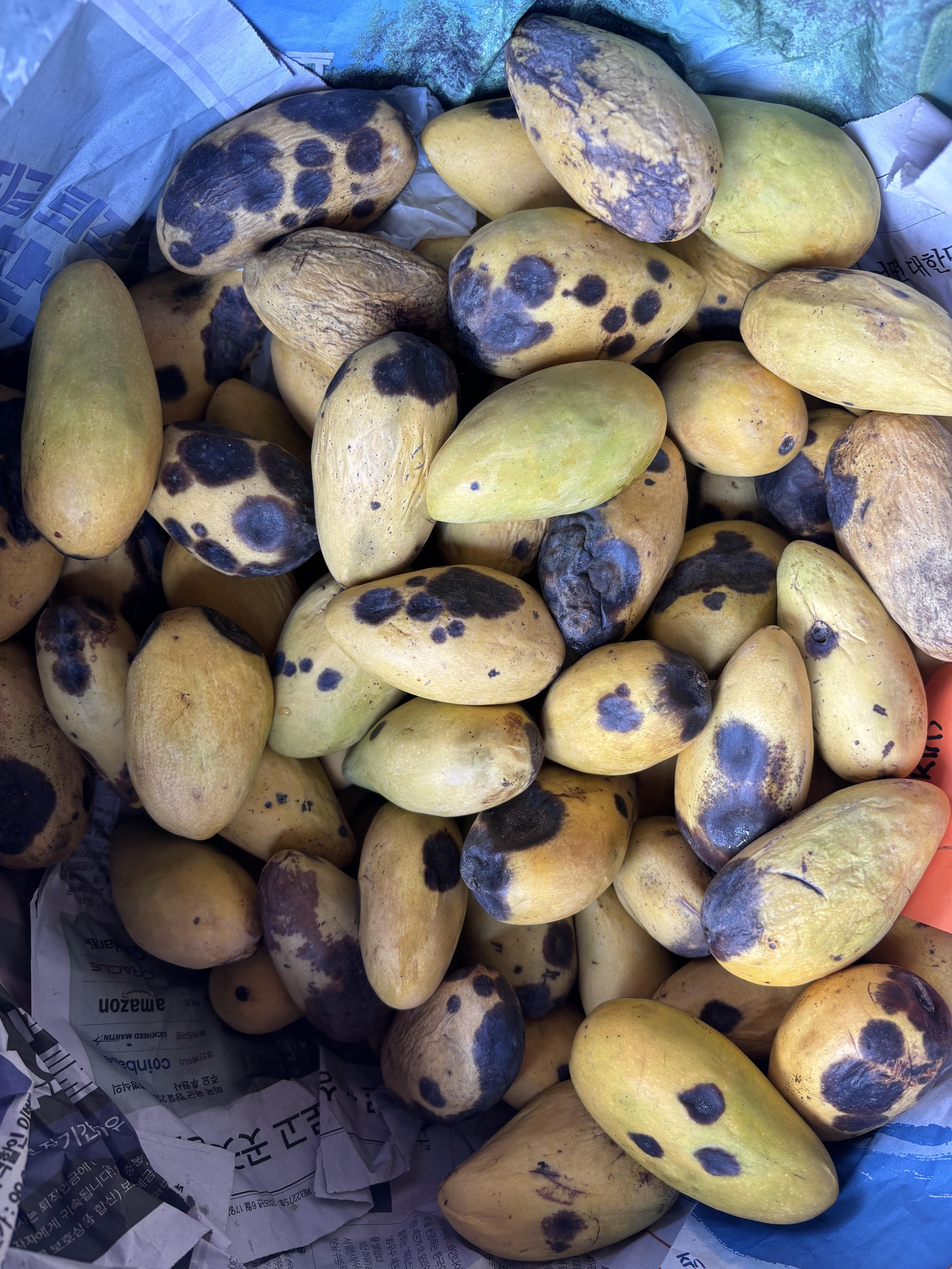mango: (570, 998, 838, 1223), (701, 779, 949, 986), (505, 14, 723, 243), (157, 90, 417, 275), (21, 260, 163, 559), (426, 360, 666, 522), (126, 606, 273, 839), (324, 566, 565, 705), (342, 699, 543, 817), (542, 640, 711, 775)
occluded: (449, 208, 703, 379), (438, 1081, 677, 1261), (312, 333, 458, 586), (777, 541, 926, 782), (674, 626, 813, 872), (769, 964, 952, 1141), (537, 439, 687, 654), (825, 412, 952, 661), (701, 96, 880, 272), (243, 228, 450, 379), (740, 269, 952, 415), (461, 762, 636, 925), (147, 423, 319, 577), (258, 850, 392, 1042), (270, 573, 406, 757), (109, 819, 262, 969), (381, 964, 524, 1123), (359, 802, 467, 1010), (646, 521, 786, 679), (36, 595, 140, 806), (0, 642, 93, 869), (130, 270, 265, 423), (660, 341, 807, 477), (420, 96, 576, 219), (162, 540, 300, 659), (0, 385, 64, 641), (221, 746, 355, 866), (652, 957, 805, 1062), (457, 892, 577, 1019), (614, 816, 714, 958), (755, 407, 853, 549), (57, 512, 168, 635), (575, 888, 680, 1014), (668, 230, 771, 339), (206, 378, 310, 465), (862, 915, 952, 1012), (503, 1004, 584, 1110), (209, 945, 302, 1034), (434, 519, 550, 577), (695, 472, 783, 532), (413, 236, 470, 271), (319, 749, 352, 790)
